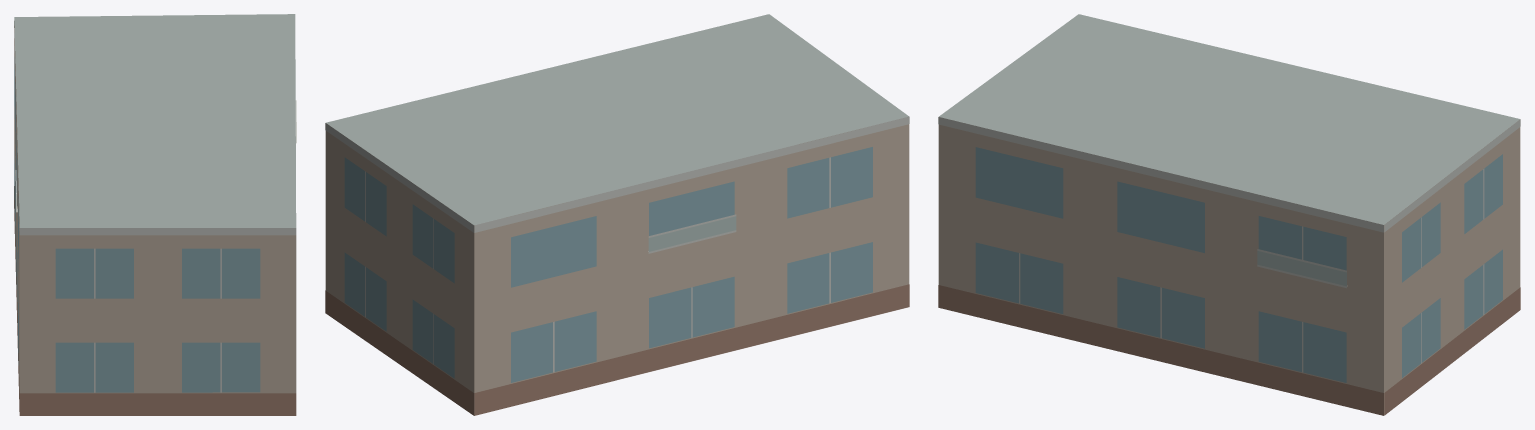
File: survey-upis-32869495.glb
3 views of the same model, side by side, from view 1: azimuth 30°, elevation 25°; view 2: azimuth 150°, elevation 25°; view 3: azimuth 270°, elevation 25° (orthographic).
Parts seen in each view (by area): view 1: survey-upis-32869495.tmp; view 2: survey-upis-32869495.tmp; view 3: survey-upis-32869495.tmp.
Boxes of the visible parts, x1,y1,x2,y2 form: survey-upis-32869495.tmp: [14, 14, 296, 415]; survey-upis-32869495.tmp: [325, 14, 909, 415]; survey-upis-32869495.tmp: [938, 14, 1520, 415].
Bounding box in the file's own units: 14.48 × 6.1 × 16.87.
